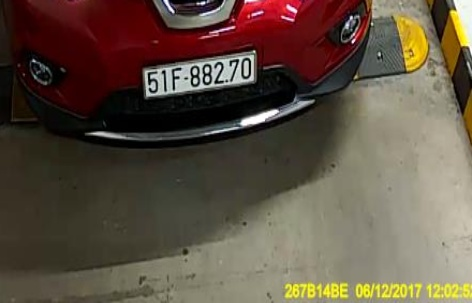plate: (137, 48, 263, 107)
